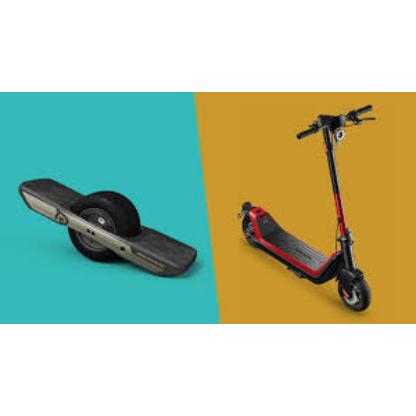bike: (238, 106, 377, 312)
